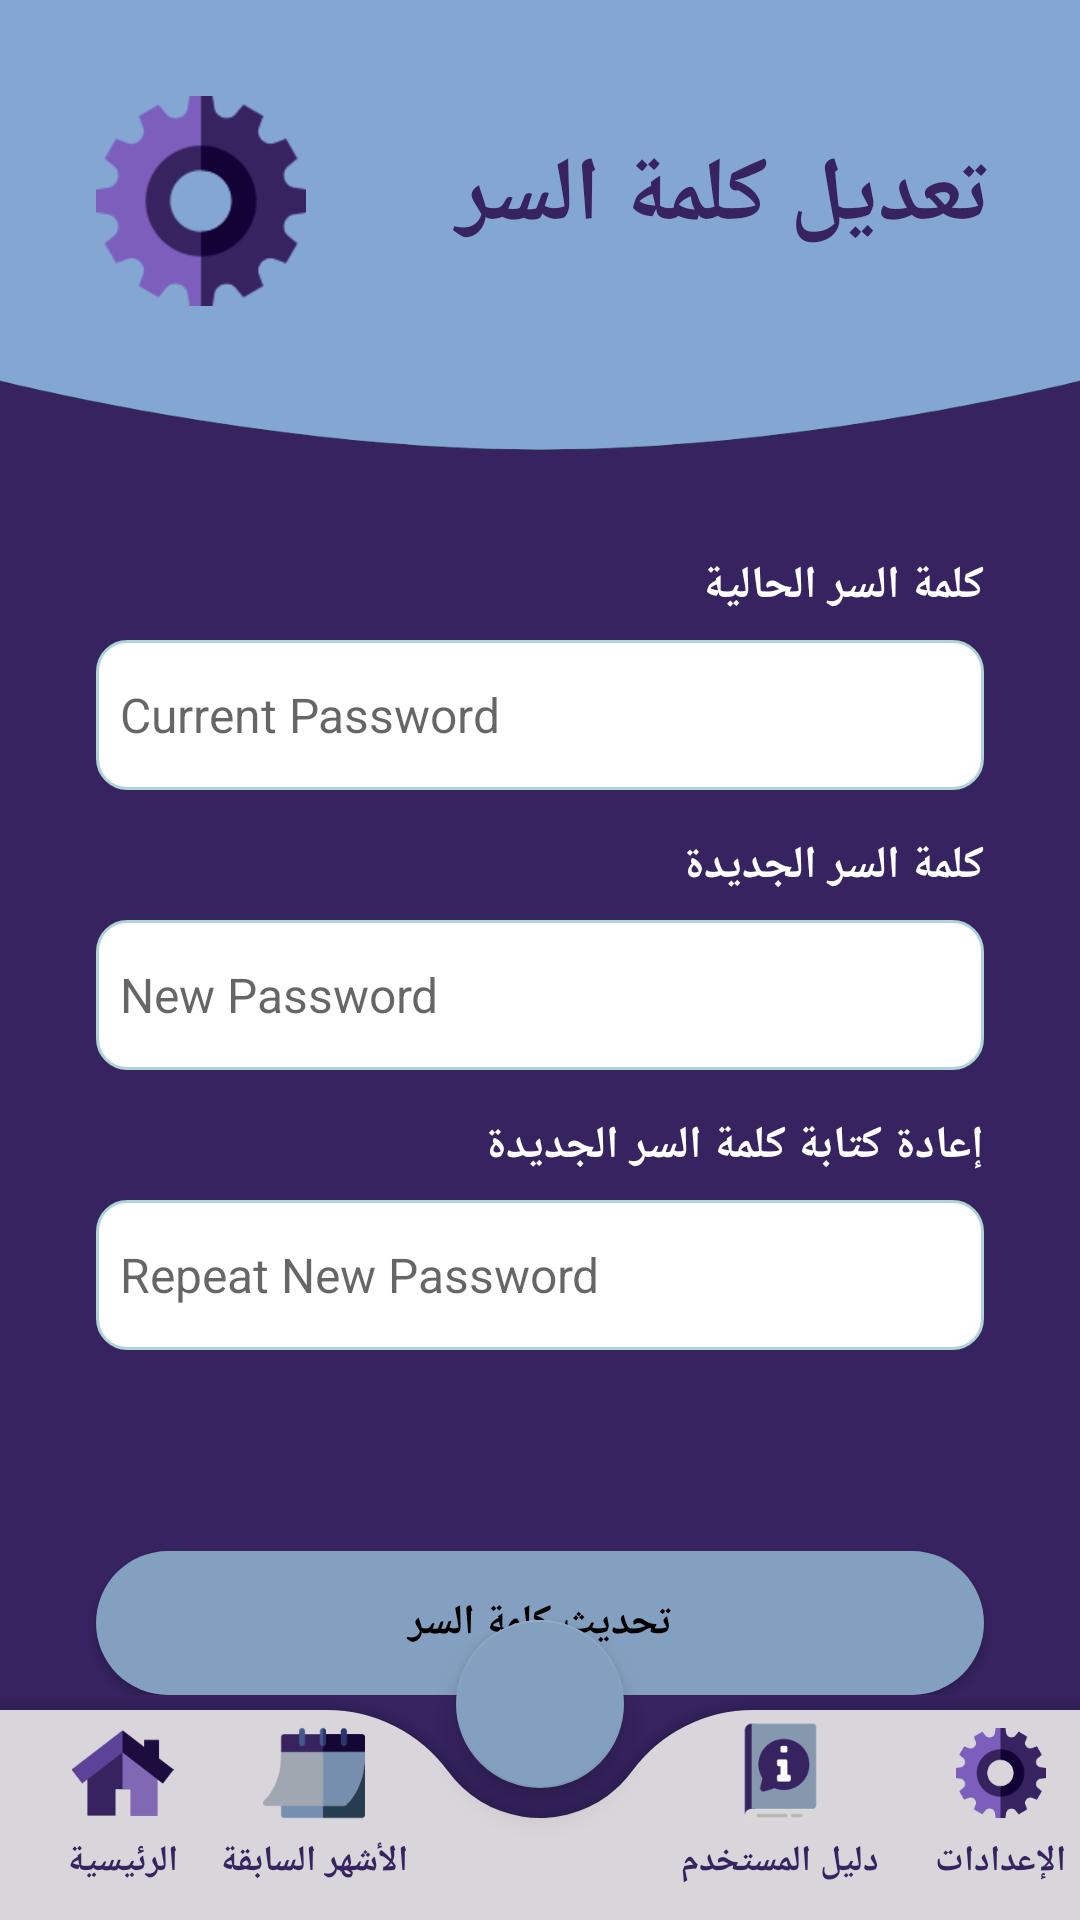

Screen size 1080x1920. Icon name, then its center in pixels as (x,y):
calendar masroofe: (314,1773)
